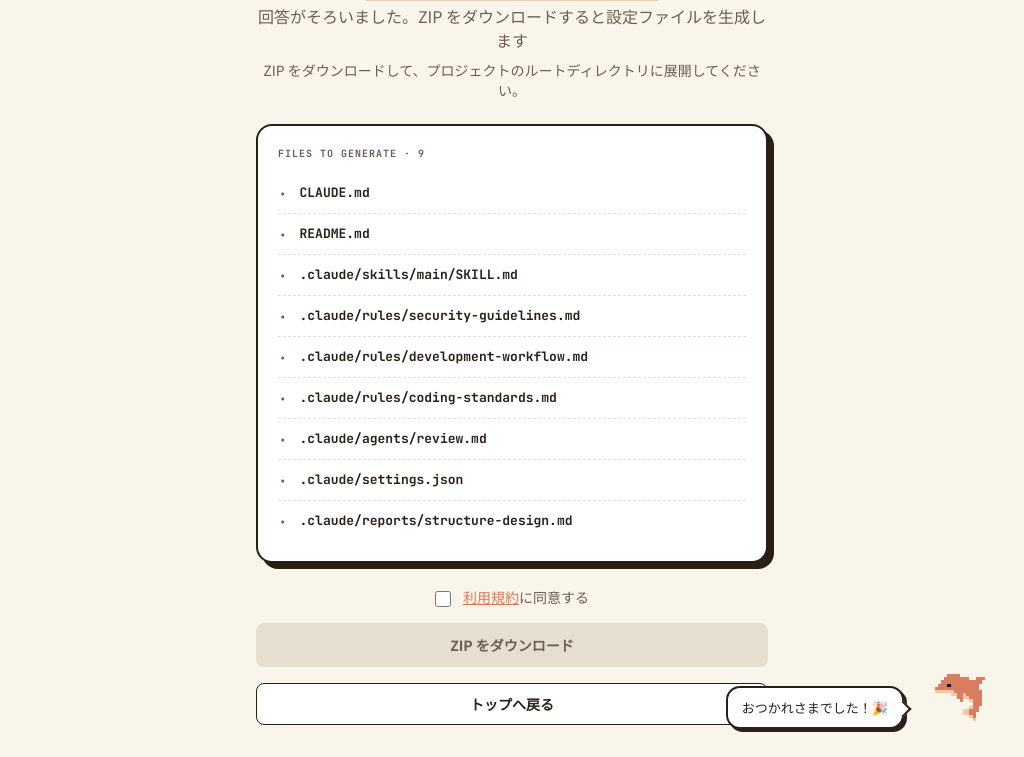
Test case: CompletePage（統一フロー: 同意 → 生成 → DL） › Plus は NotImplementedError → unavailable(fatal) で再試行ボタンが出ない（futile loop 防止）
The image size is (1024, 757).
(page scrolled)
What coordinates should you click on to do the following:
click the checkbox
I would click on:
 (443, 599)
Its box is [435,591,451,607].
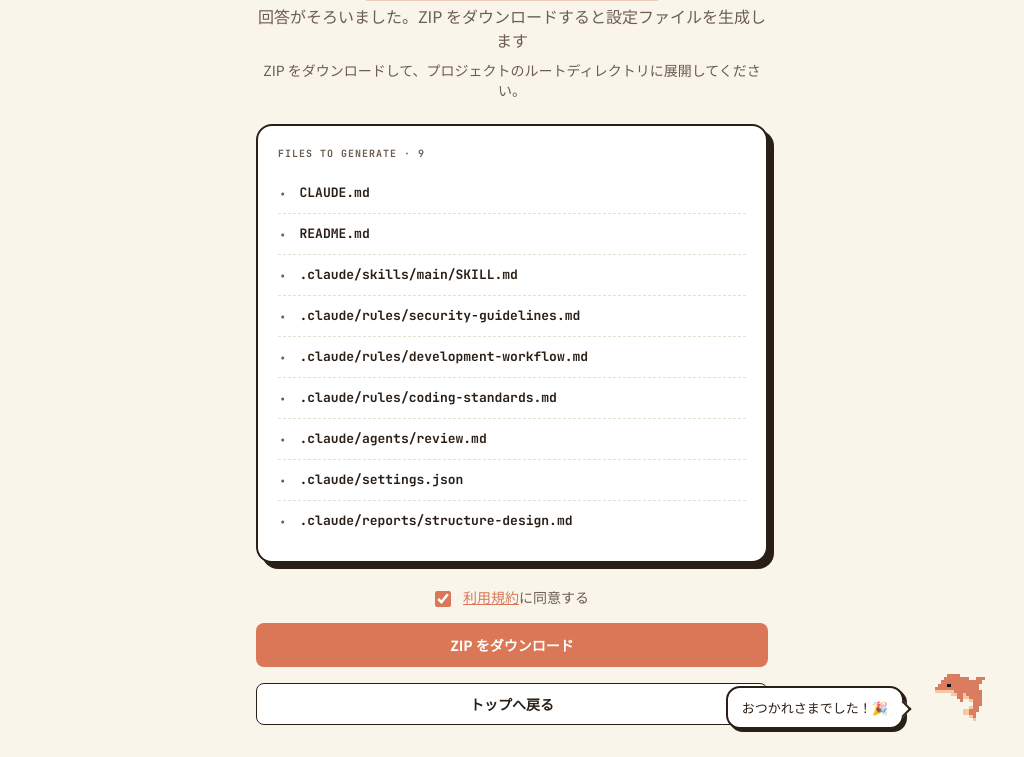
What coordinates should you click on to do the following:
click the button "ZIP をダウンロード"
I would click on:
 (512, 645)
Its box is [256,623,768,667].
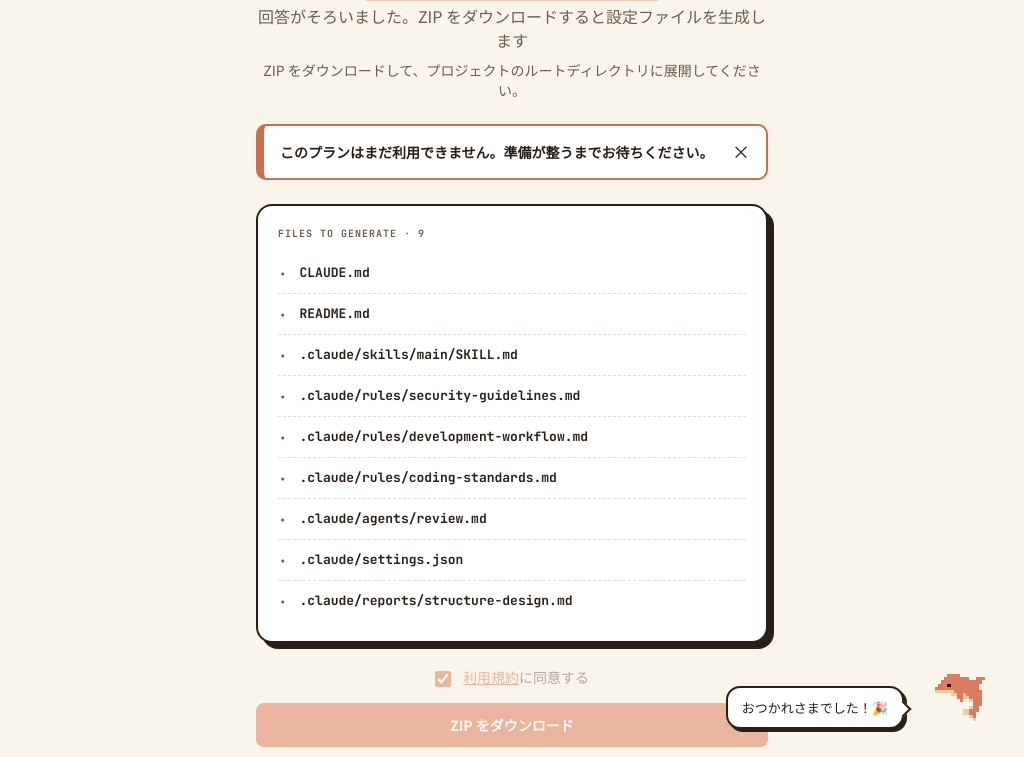
Expected: the message "このプランはまだ利用できません。準備が整うまでお待ちください。 ×" is shown, [256,124,768,180]
